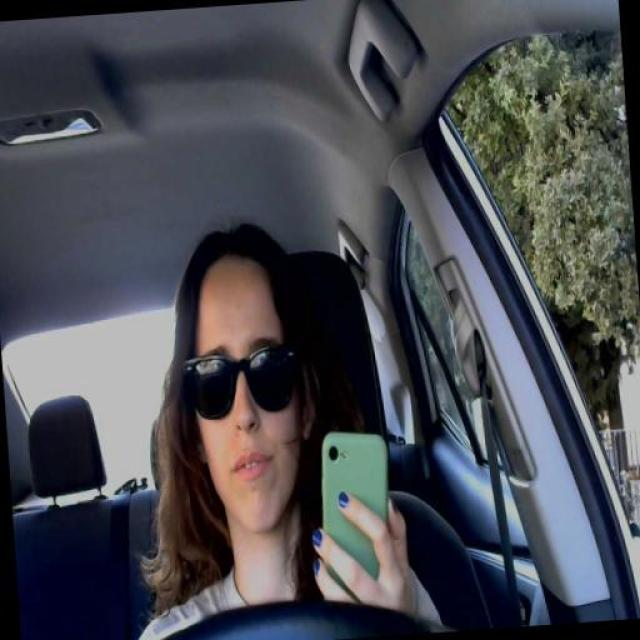phone: (318, 432, 392, 596)
